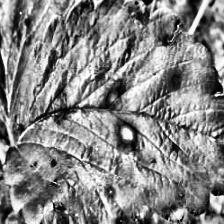Leaf Spot: (1, 0, 224, 224), (0, 0, 82, 131)
